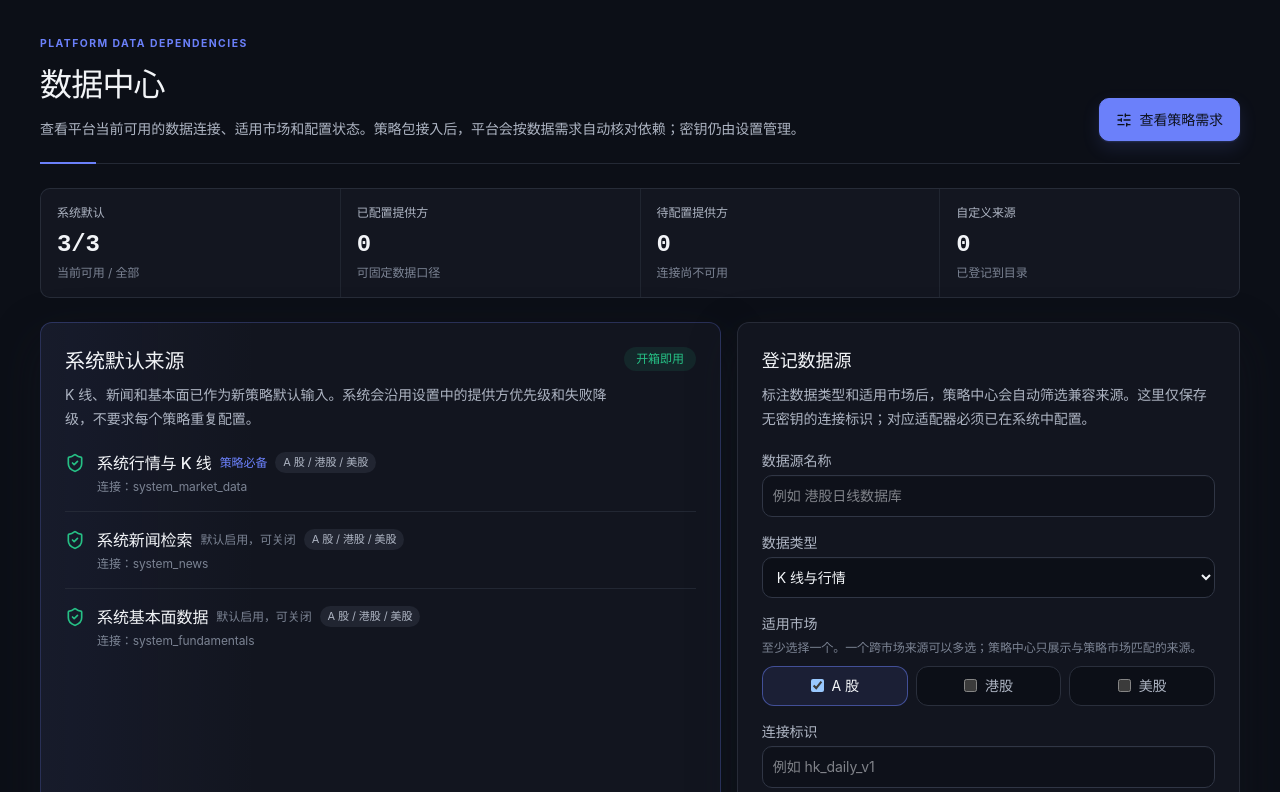
DataSourcesPage › does not submit a source without at least one market
Expected: the heading "系统行情与 K 线" is shown, [97,451,212,475]
Type "未标注来源" into the field labelled "数据源名称" at (988, 496), box [762,475,1215,517]
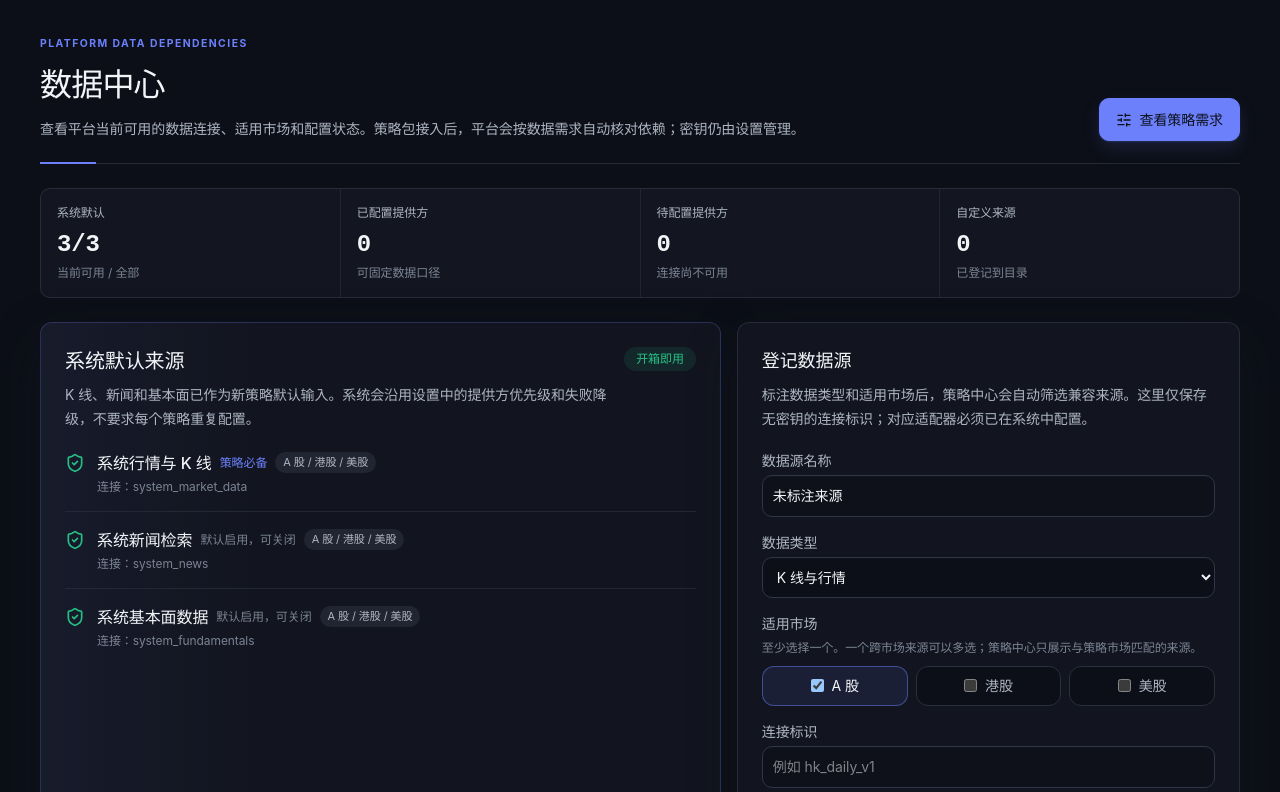
Type "unmarked_source" into the field labelled "连接标识" at (988, 767), box [762,746,1215,788]
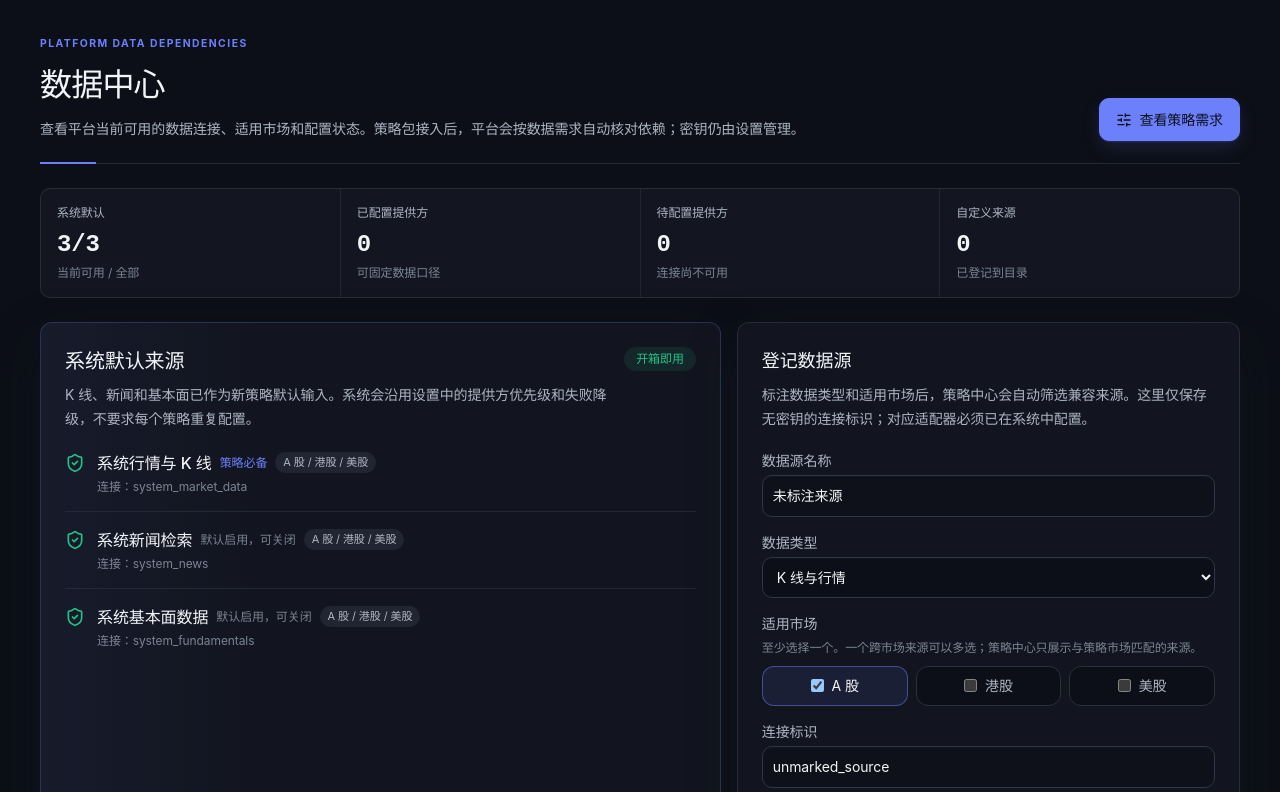
Click the checkbox named "适用市场 A 股" at (817, 686), box [810,679,824,692]
(page scrolled)
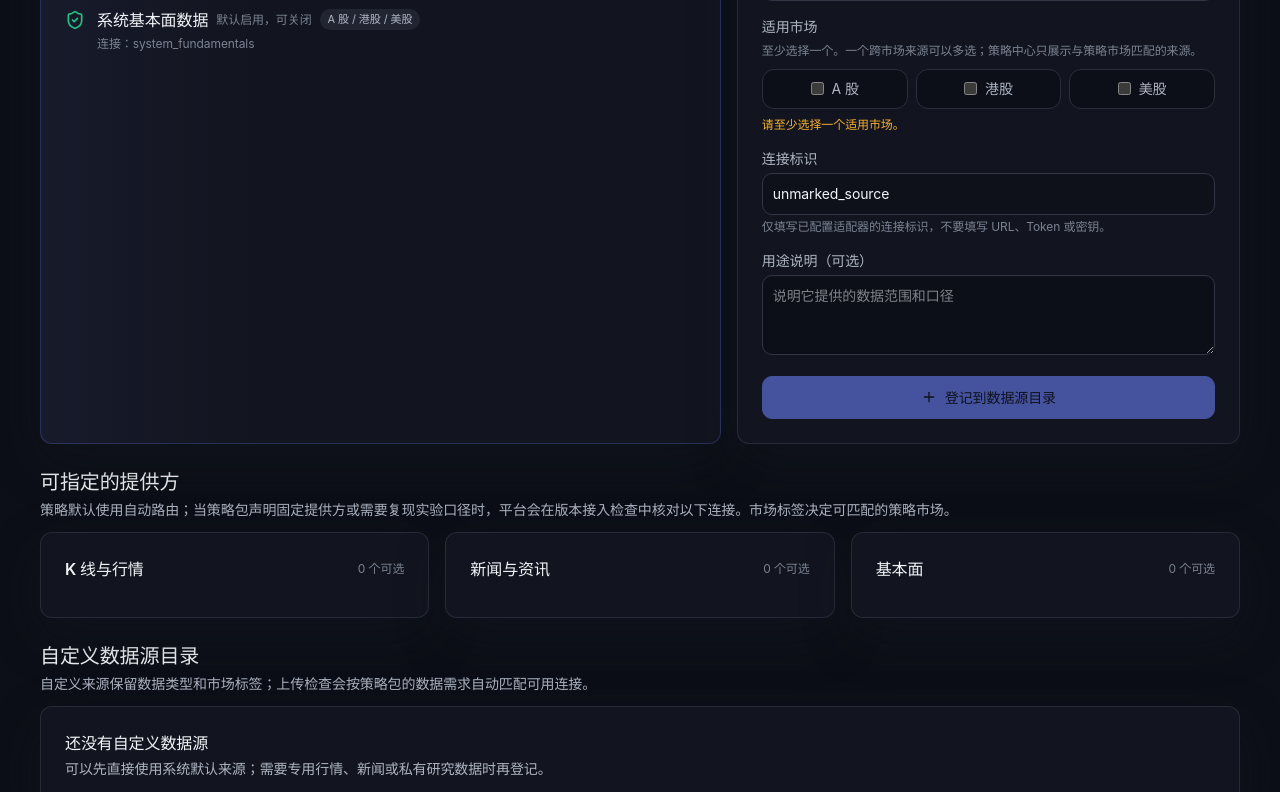
Now the text "请至少选择一个适用市场。" is shown, box [762,117,905,132]
Now the button "登记到数据源目录" is disabled, box [762,376,1215,419]
